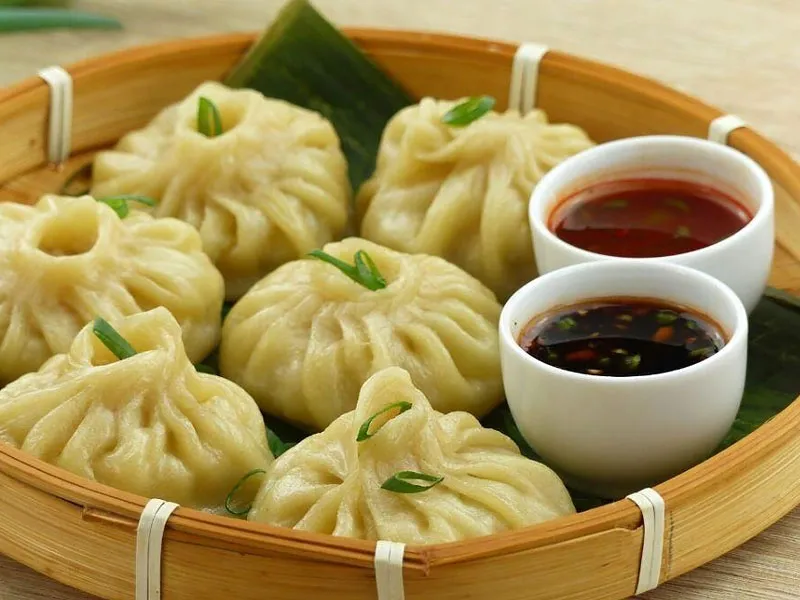momo: (240, 377, 579, 559), (226, 237, 534, 420), (0, 310, 266, 501), (90, 83, 356, 259), (369, 93, 594, 280), (0, 191, 230, 353)
